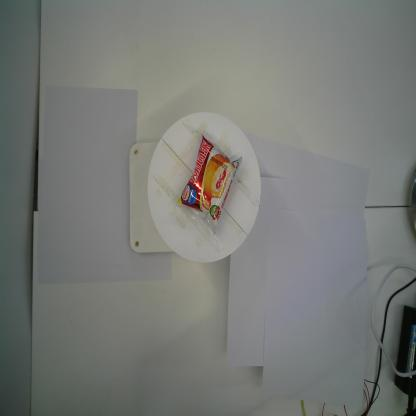Dessert: (173, 133, 244, 237)
